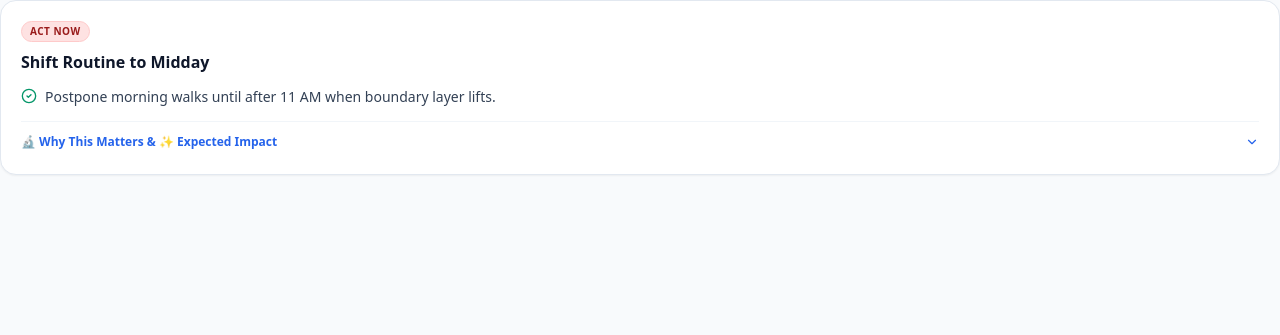
GuidanceCardItem Component › toggles scientific reasoning and expected impact upon expanding
Check: the text "Nocturnal temperature inversions" is not shown
Click the button "🔬 Why This Matters & ✨ Expected Impact" at (82, 141), box [21,130,1259,154]
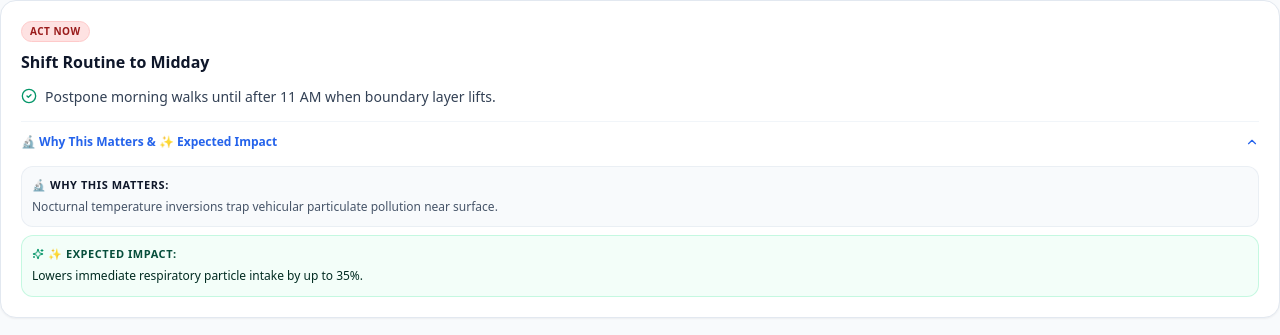
Check: the text "Nocturnal temperature inversions" is shown, box [32,198,498,215]
Check: the text "Lowers immediate respiratory particle intake by up to 35%." is shown, box [32,267,363,284]
Collapse again
Click the button "🔬 Why This Matters & ✨ Expected Impact" at (82, 141), box [21,130,1259,154]
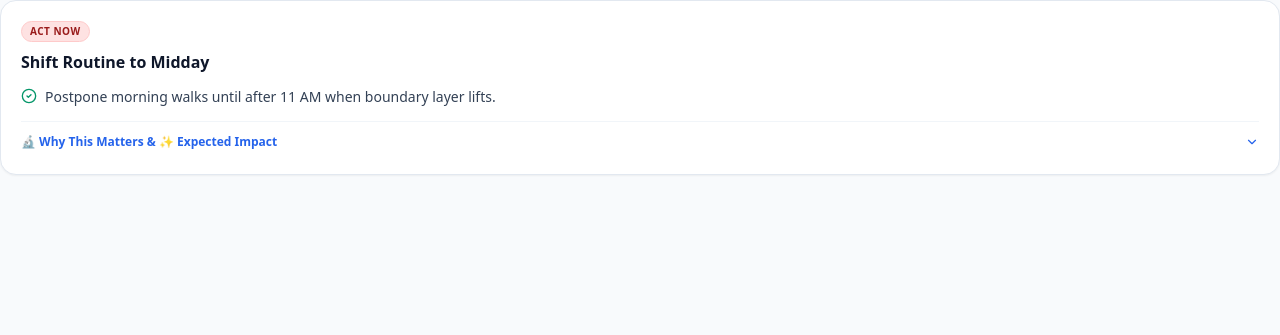
Check: the text "Nocturnal temperature inversions" is gone
